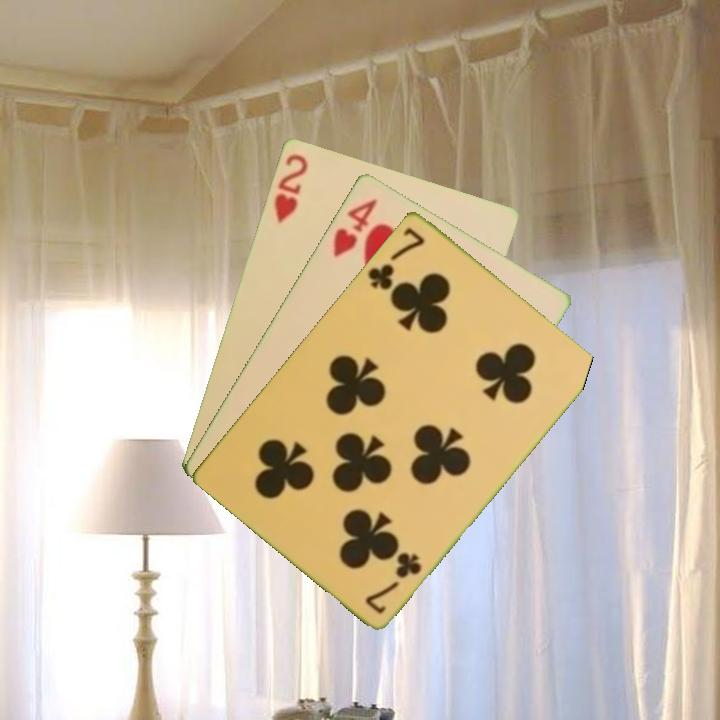2h: (270, 149, 311, 226)
4h: (329, 194, 381, 260)
7c: (364, 223, 428, 293), (361, 547, 425, 617)
